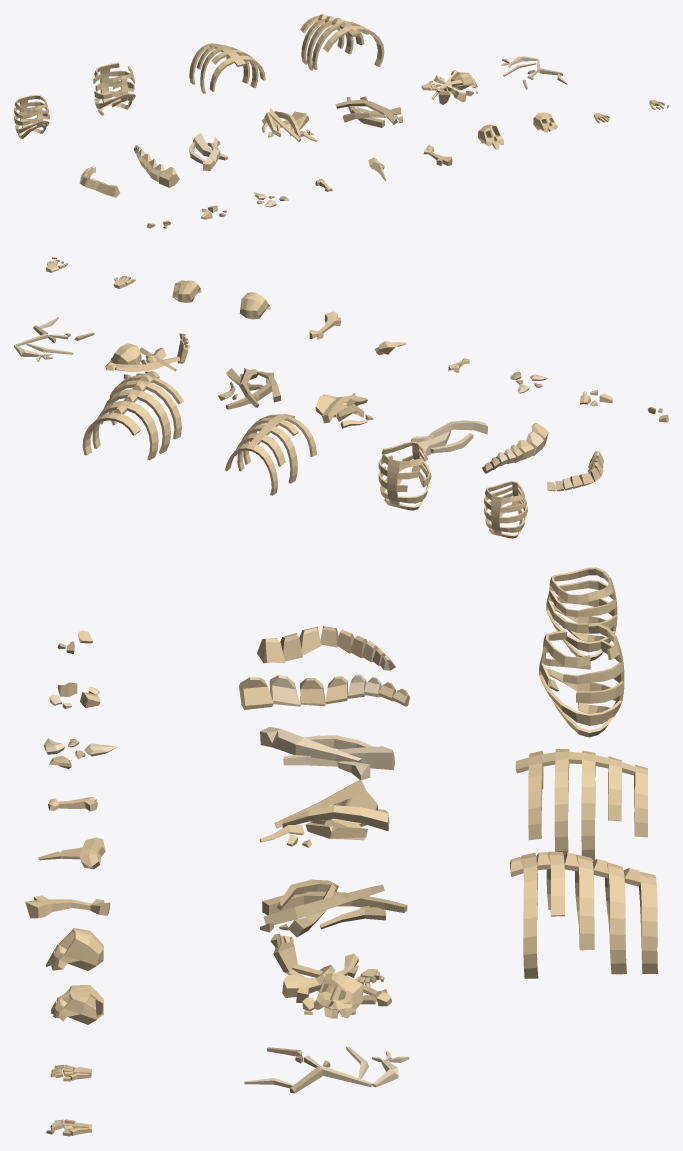
The model's file is low_poly_bones_asset_pack.glb.
3 renders of one model, top to bottom at view 1: azimuth 30°, elevation 25°; view 2: azimuth 150°, elevation 25°; view 3: azimuth 270°, elevation 25°, orthographic. The views are drawn at different scales.
Visible parts, largest first — view 1: Bone_Ribs_4, Bone_Ribs_3, Bone_Ribs_2, Bone_Ribs_1, Bone_Stack_3, Bone_Stack_4, Bone_Stack_2, Bone_Spine_2, Bone_Stack_1, Bone_Wing, Bone_Spine_1, Skull_1 (+1 smaller); view 2: Bone_Ribs_4, Bone_Ribs_3, Bone_Ribs_2, Bone_Ribs_1, Bone_Stack_4, Bone_Stack_3, Bone_Stack_1, Bone_Stack_2, Bone_Spine_2, Bone_Wing, Bone_Spine_1, Skull_1 (+1 smaller); view 3: Bone_Ribs_4, Bone_Ribs_3, Bone_Ribs_2, Bone_Stack_4, Bone_Stack_3, Bone_Ribs_1, Bone_Stack_2, Bone_Spine_2, Bone_Stack_1, Bone_Spine_1, Bone_Wing, Skull_1 (+4 smaller).
Part boxes in pixels (x1,y1,x2,y2): Bone_Ribs_4: (300,14,384,70); Bone_Ribs_3: (189,43,265,93); Bone_Ribs_2: (93,62,135,115); Bone_Ribs_1: (14,95,49,138); Bone_Stack_3: (335,96,402,127); Bone_Stack_4: (421,70,477,104); Bone_Stack_2: (261,108,317,141); Bone_Spine_2: (133,145,179,187); Bone_Stack_1: (189,133,228,170); Bone_Wing: (501,56,567,89); Bone_Spine_1: (79,166,119,197); Skull_1: (478,124,503,149); Bone_Ribs_4: (82,371,183,460); Bone_Ribs_3: (225,413,317,495); Bone_Ribs_2: (378,441,431,510); Bone_Ribs_1: (484,481,527,538); Bone_Stack_4: (105,333,189,378); Bone_Stack_3: (218,368,281,409); Bone_Stack_1: (411,420,487,455); Bone_Stack_2: (315,393,373,428); Bone_Spine_2: (482,423,548,473); Bone_Wing: (14,317,94,361); Bone_Spine_1: (547,451,604,491); Skull_1: (239,292,270,319); Bone_Ribs_4: (509,851,657,978); Bone_Ribs_3: (515,749,647,860); Bone_Ribs_2: (539,624,624,737); Bone_Stack_4: (270,934,391,1018); Bone_Stack_3: (260,879,407,937); Bone_Ribs_1: (546,567,617,660); Bone_Stack_2: (259,779,389,847); Bone_Spine_2: (239,674,409,709); Bone_Stack_1: (260,727,394,780); Bone_Spine_1: (257,626,395,670); Bone_Wing: (244,1046,409,1093); Skull_1: (46,928,103,970).
Size of the model in its own units: 9.41 by 0.8963 by 4.96.
1 material, 1 textured.
